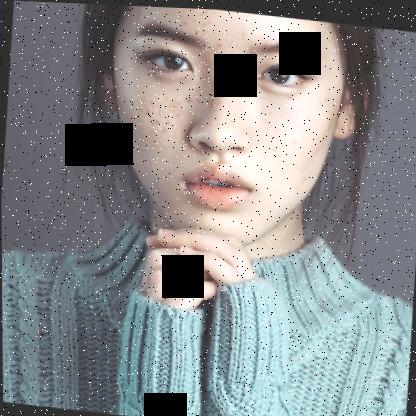Female: (92, 3, 374, 257)
